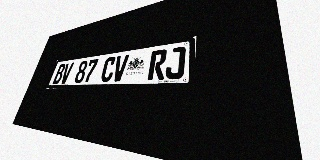7: (82, 59, 99, 83)
8: (73, 60, 89, 83)
B: (52, 63, 66, 84)
C: (99, 56, 117, 82)
J: (165, 46, 186, 80)
R: (147, 49, 168, 80)
V: (111, 54, 129, 82), (59, 62, 74, 84)
